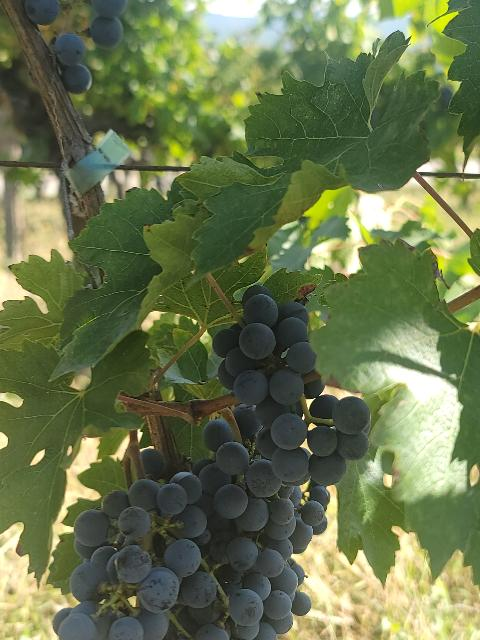grapes: (212, 285, 370, 485), (180, 420, 314, 640), (54, 475, 230, 640)
